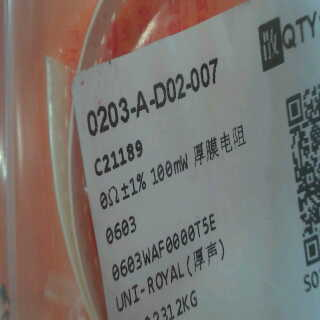0R: (101, 170, 146, 242)
